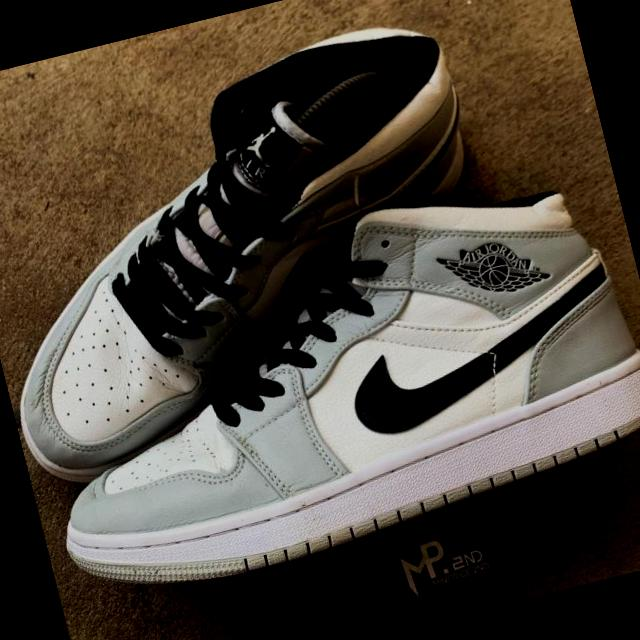nike_fake_jordan: (3, 152, 640, 611), (0, 4, 535, 477)
